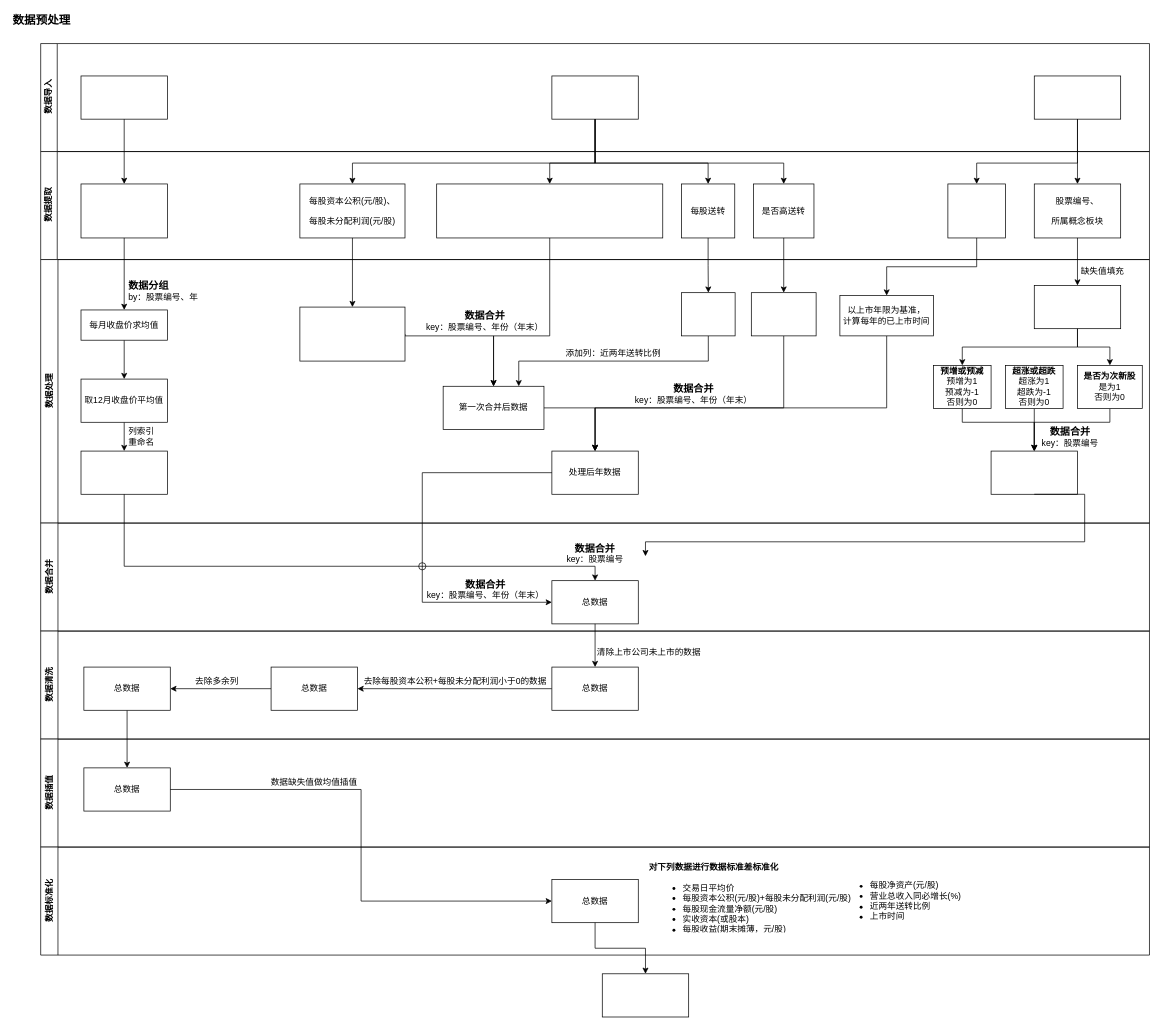
The diagram is 1162 pixels wide and 1030 high, and some of its shapes have lost their labels. Each missing label, with the centre of its shape:
"上市年限" goes at point (976, 210).
"处理后基础数据" goes at point (1033, 472).
"处理后日数据" goes at point (123, 472).
"字符子串判断" goes at point (1077, 307).
"导入基础数据" goes at point (1077, 97).
"导入年数据" goes at point (594, 97).
"导入日数据" goes at point (123, 97).
"是否高送转 数据上移， 用作当年数据 预测值" goes at point (783, 314).
"最终数据" goes at point (645, 995).
"每股资本公积(元/股) 每股未分配利润(元/股) 求和" goes at point (352, 333).
"求两年送转 比例均值" goes at point (708, 314).
"股票编号、年、 月、收盘价" goes at point (123, 210).
"股票编号、年份（年末）、每股现金流量净额(元/股)、 实收资本(或股本)、 每股收益(期末摊薄，元/股)、 每股净资产(元/股)、营业总收入同必增长(%)" goes at point (549, 210).
